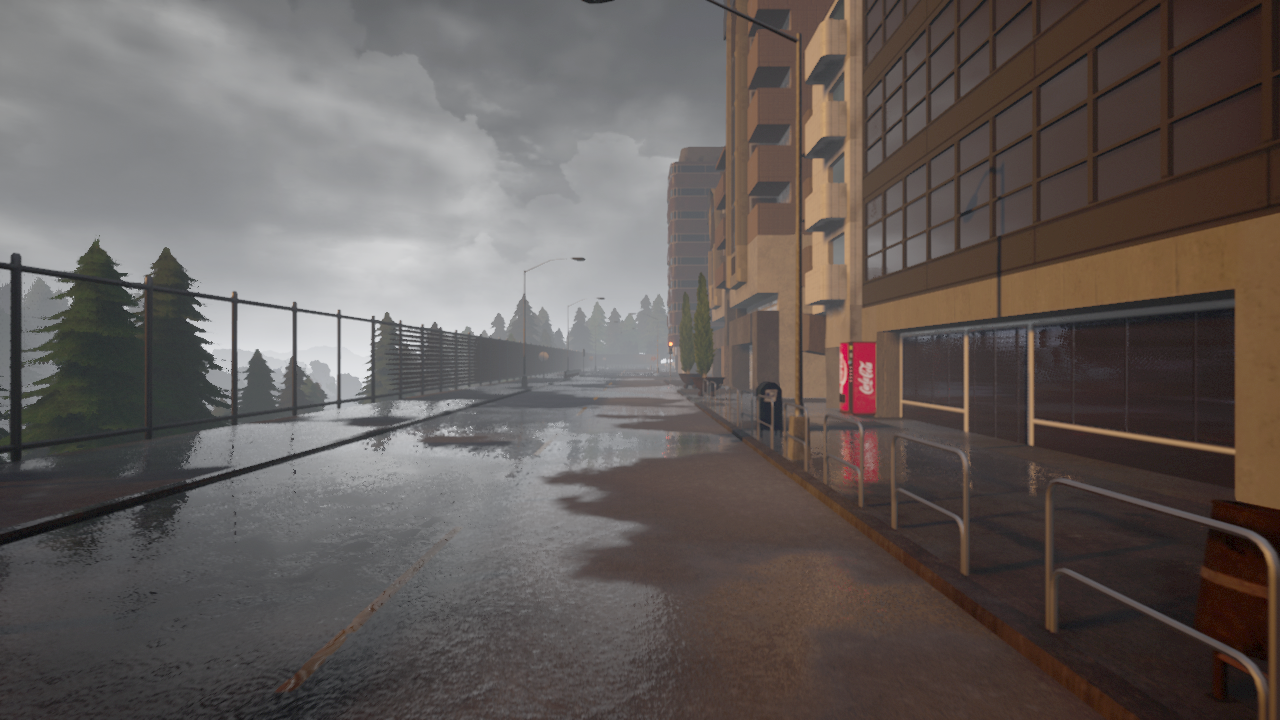red: (667, 341, 673, 355)
